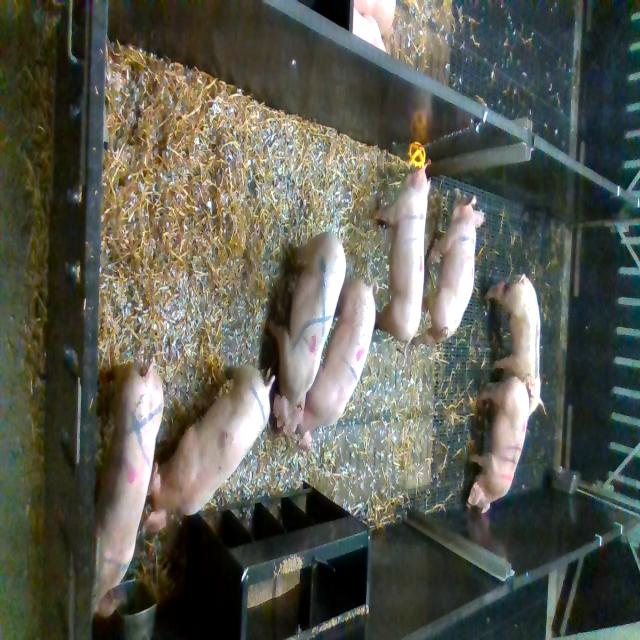pig: (142, 364, 276, 533), (94, 360, 164, 617), (268, 227, 346, 436), (295, 279, 379, 453), (371, 159, 432, 358), (411, 188, 487, 347), (466, 375, 530, 513), (487, 273, 547, 420)
